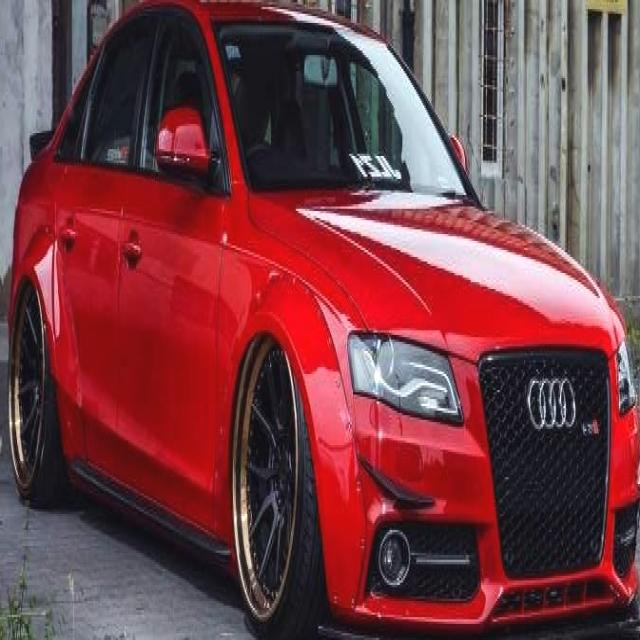red: (2, 8, 638, 640)
